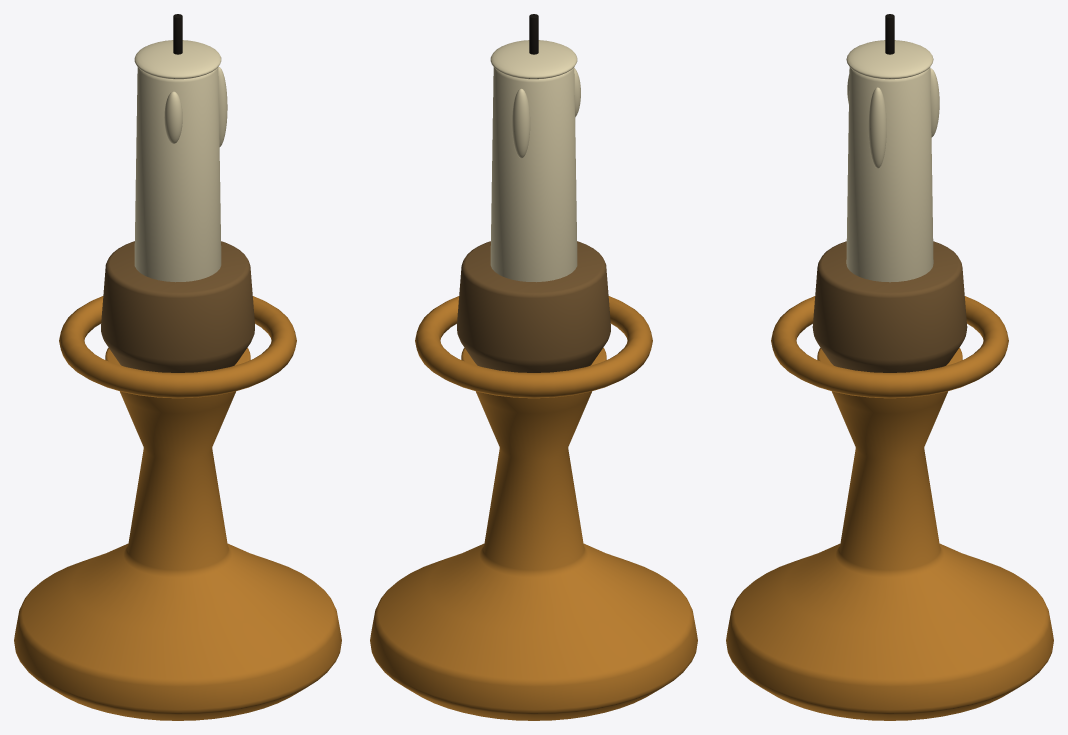
File: period-brass-candlestick.glb
The picture shows the model from 3 angles, left to right: view 1: azimuth 30°, elevation 25°; view 2: azimuth 150°, elevation 25°; view 3: azimuth 270°, elevation 25°; orthographic projection.
Visible parts, largest first — view 1: CandlestickTurnedBody, CandlestickTallowCandle, CandlestickSocket, CandlestickDripPan, CandlestickMeltedCrown, CandlestickWaxDrip_1, CandlestickWaxDrip_0; view 2: CandlestickTurnedBody, CandlestickTallowCandle, CandlestickSocket, CandlestickDripPan, CandlestickMeltedCrown, CandlestickWaxDrip_2; view 3: CandlestickTurnedBody, CandlestickTallowCandle, CandlestickSocket, CandlestickDripPan, CandlestickMeltedCrown, CandlestickWaxDrip_0.
Boxes of the visible parts, x1,y1,x2,y2 form: CandlestickTurnedBody: (14,347,341,720); CandlestickTallowCandle: (134,67,221,282); CandlestickSocket: (101,241,254,372); CandlestickDripPan: (59,296,296,398); CandlestickMeltedCrown: (134,40,221,79); CandlestickWaxDrip_1: (164,91,182,143); CandlestickWaxDrip_0: (218,67,227,146); CandlestickTurnedBody: (370,347,697,720); CandlestickTallowCandle: (490,67,577,282); CandlestickSocket: (457,241,610,372); CandlestickDripPan: (415,296,652,398); CandlestickMeltedCrown: (490,40,577,79); CandlestickWaxDrip_2: (512,88,530,158); CandlestickTurnedBody: (726,348,1053,720); CandlestickTallowCandle: (846,67,933,282); CandlestickSocket: (812,241,967,372); CandlestickDripPan: (771,296,1008,398); CandlestickMeltedCrown: (846,40,933,79); CandlestickWaxDrip_0: (868,87,886,168).
Bounding box in the file's own units: 0.3087 × 0.6725 × 0.3087.
